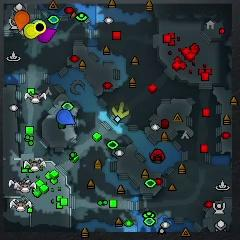p1: (56, 109, 76, 125)
p2: (32, 19, 43, 23)
p3: (38, 28, 57, 43)
p4: (23, 24, 38, 39)
p4Clone: (34, 21, 46, 33)
p5: (14, 10, 30, 31)
x2: (112, 102, 129, 118)
